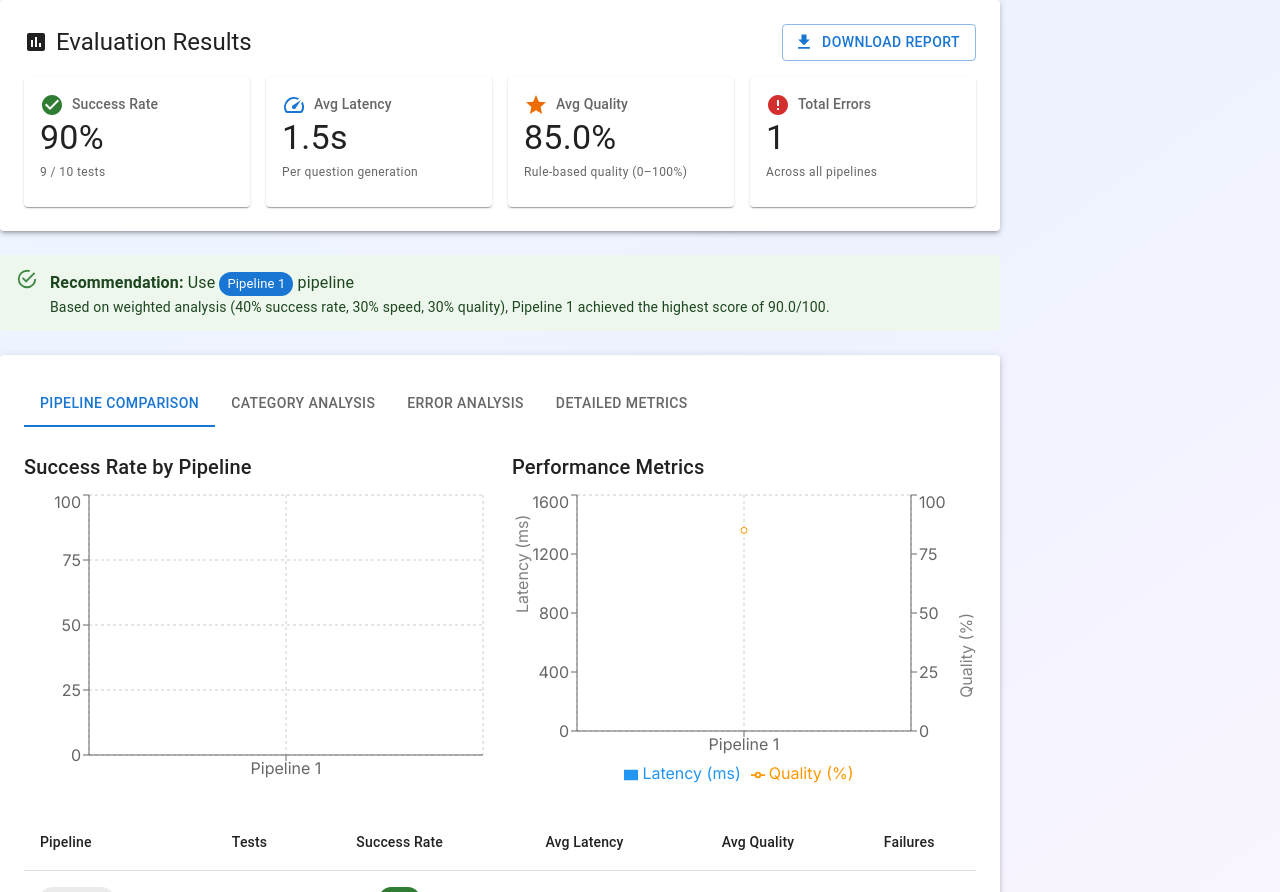
Test: EvaluationResultsDisplay › displays partial result details when present
Click the tab "Error Analysis" at (466, 403), box [391,379,540,427]
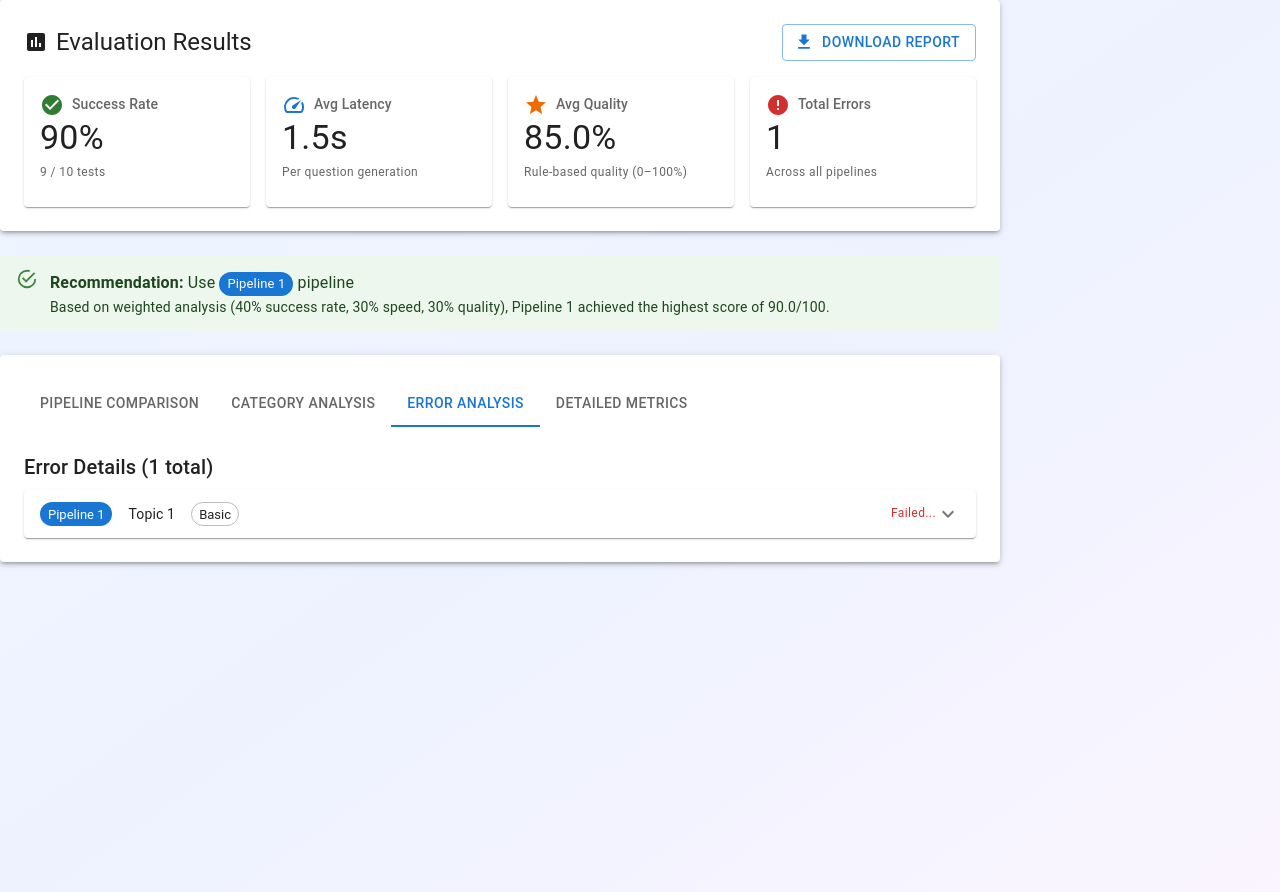
Click the button "Pipeline 1 Topic 1 Basic Failed..." at (76, 514), box [24,490,976,538]
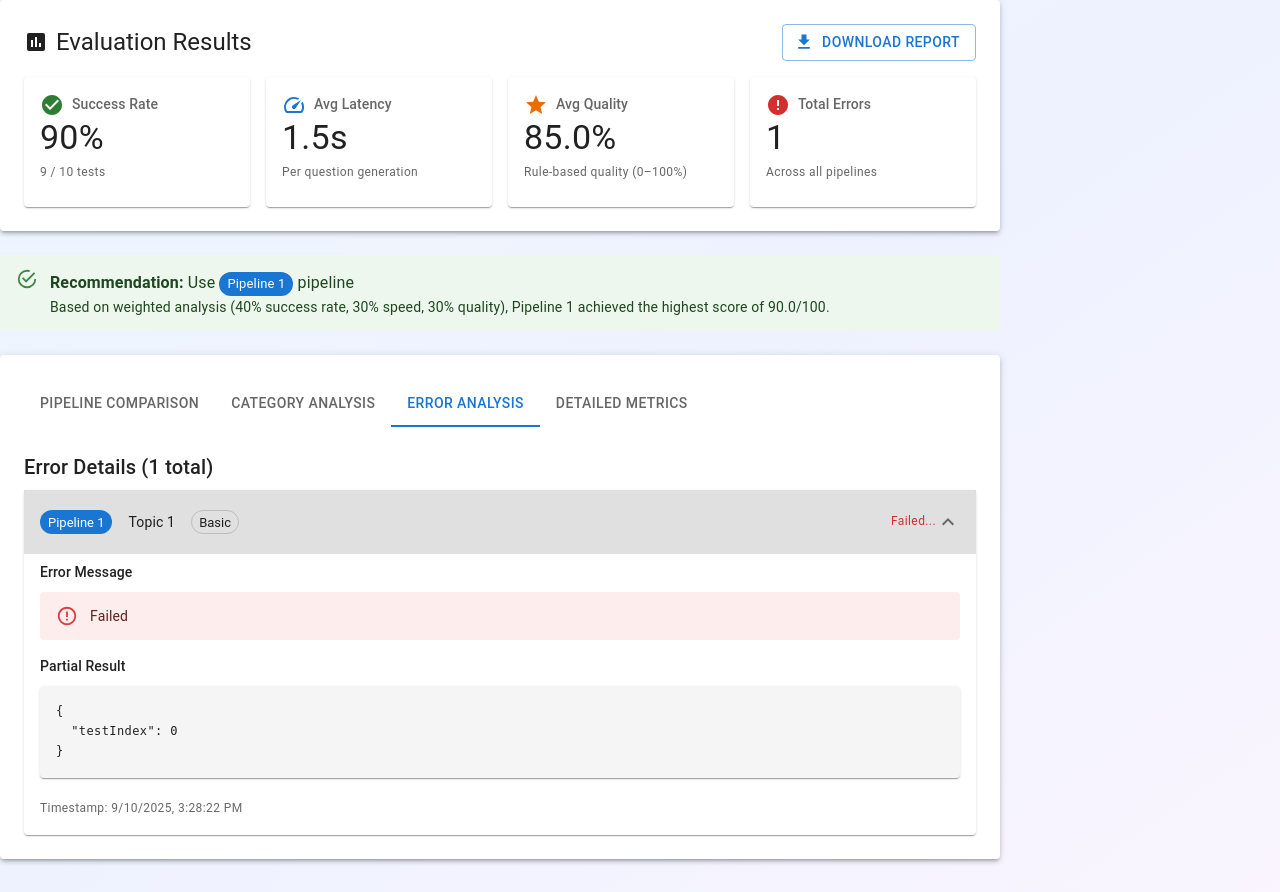
Check: the text "{ \"testIndex\": 0 }" is shown, box [56,704,178,758]
